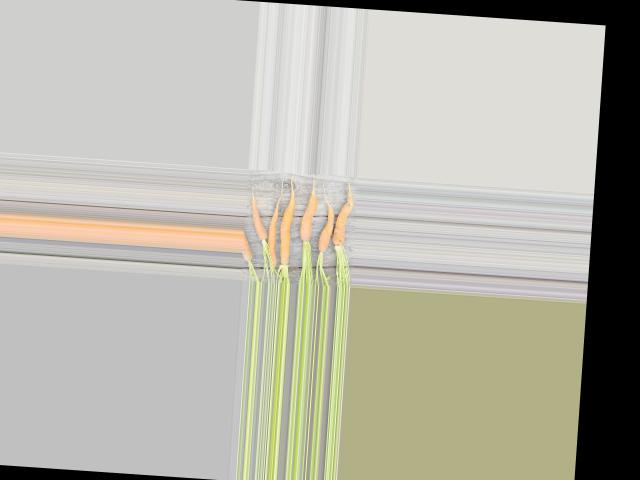carrot: (240, 239, 258, 272)
